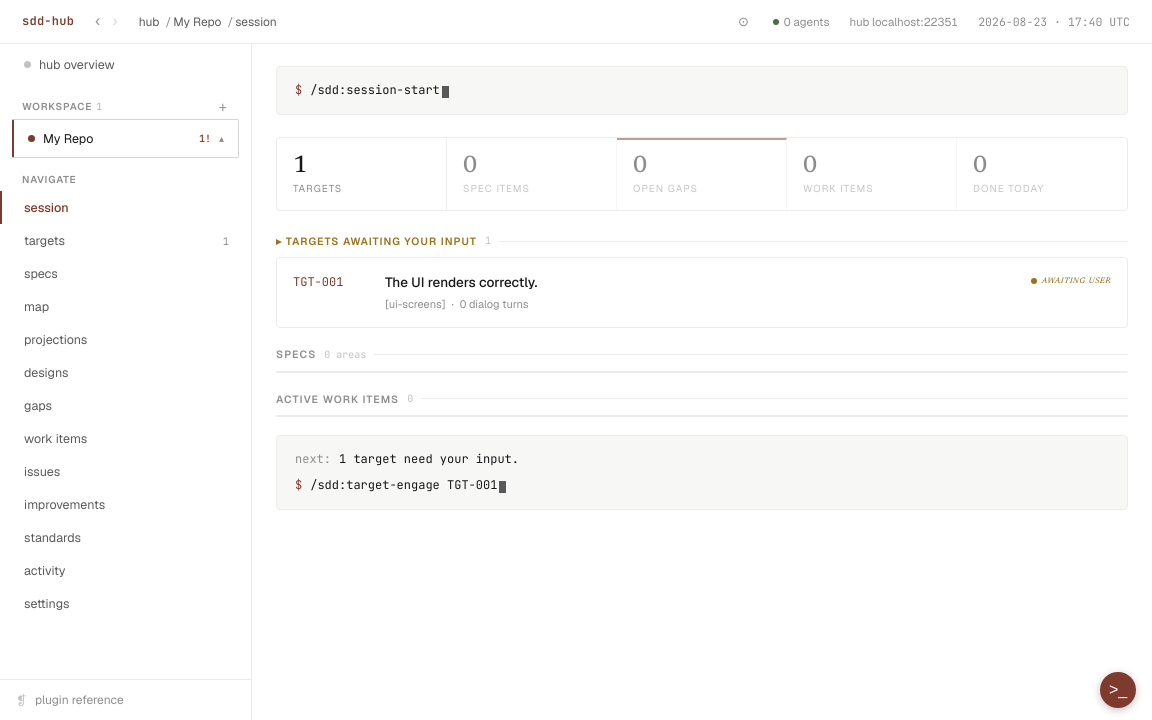
Test: API target mapping (WI-scr-001) › renders Targets without crashing when API returns only required fields
Click the button with class "sidenav-ws-trigger" at (126, 138), box [12,118,239,158]
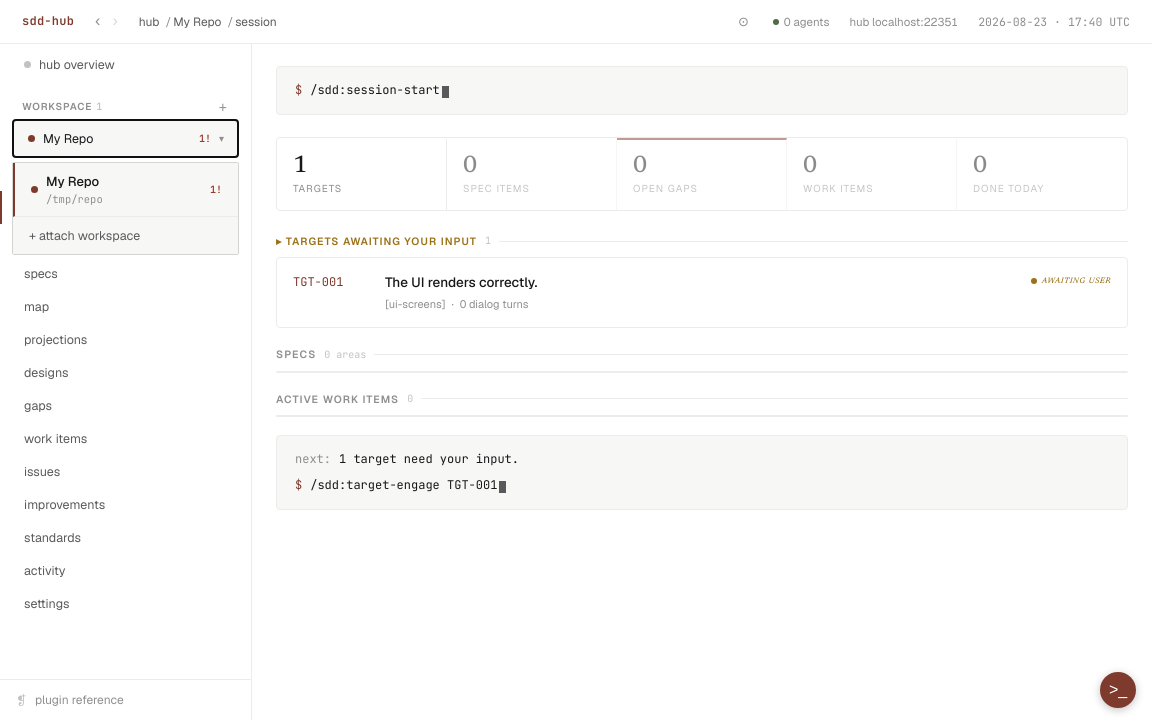
Click the button with class "sidenav-ws-panel-row" at (126, 190), box [13,162,238,216]
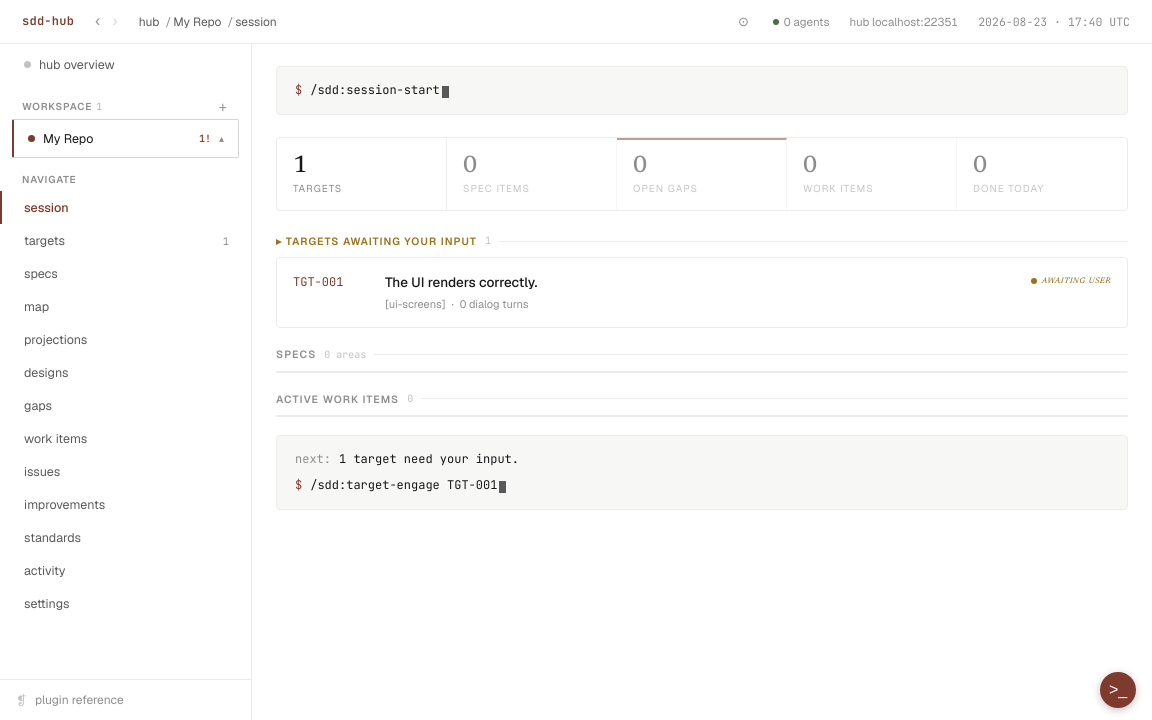
Click the button with class "sidenav-nav-row" showing "targets 1" at (126, 240), box [0,224,251,257]
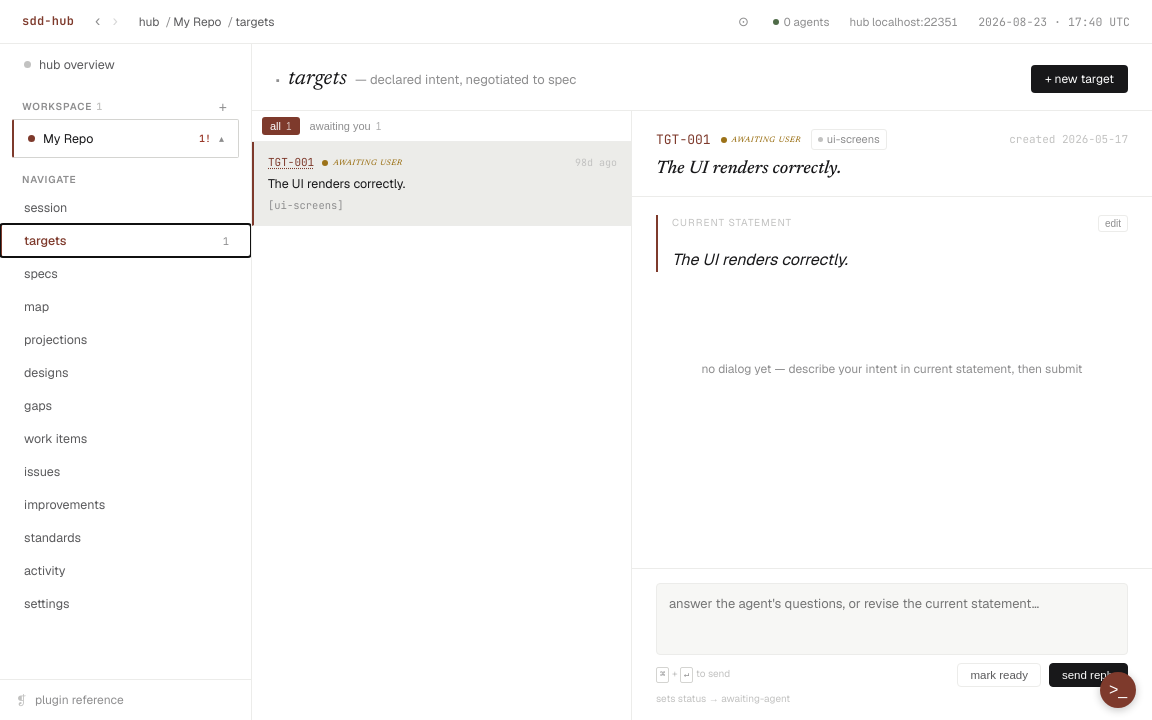
Result: the element with class "target-row" is shown at [252,142,631,226]
